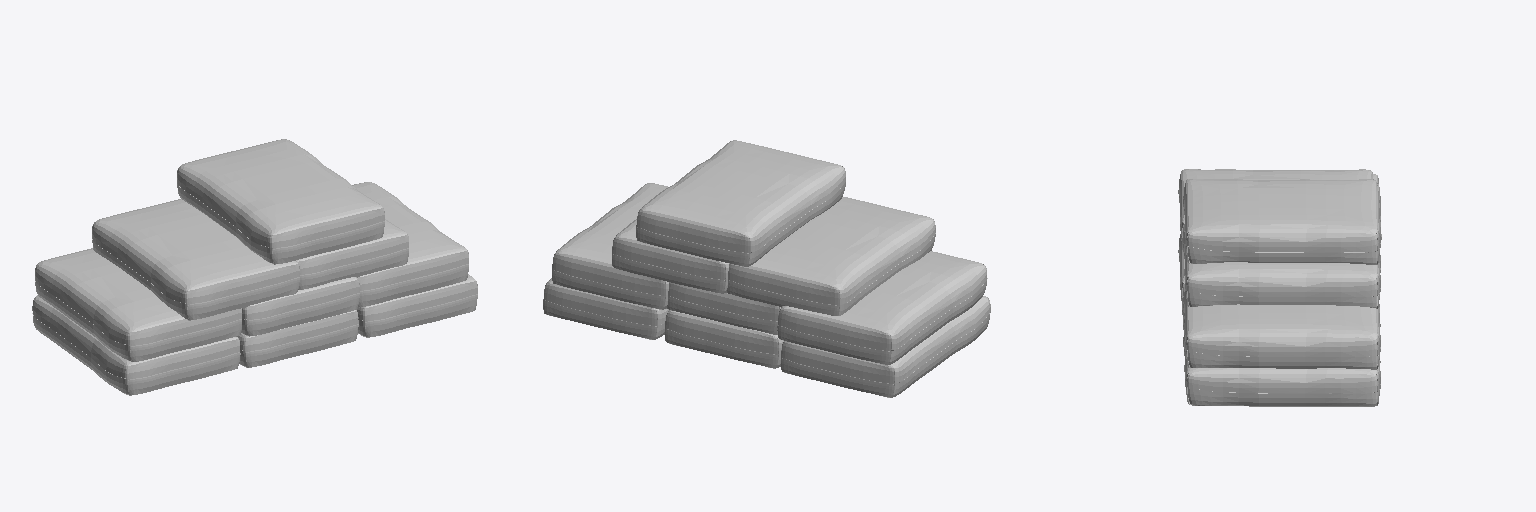
File: cement2.obj
The picture shows the model from 3 angles: view 1: azimuth 30°, elevation 25°; view 2: azimuth 150°, elevation 25°; view 3: azimuth 270°, elevation 25°; orthographic projection.
Visible parts, largest first — view 1: Cement_Bag.008, Cement_Bag.006, Cement_Bag.004, Cement_Bag.001, Cement_Bag.003, Cement_Bag.002, Cement_Bag.005, Cement_Bag.007, Cement_Bag; view 2: Cement_Bag.008, Cement_Bag.006, Cement_Bag.004, Cement_Bag.001, Cement_Bag.003, Cement_Bag.007, Cement_Bag, Cement_Bag.002, Cement_Bag.005; view 3: Cement_Bag.008, Cement_Bag.003, Cement_Bag.007, Cement_Bag.002, Cement_Bag.006.
Boxes of the visible parts, box(x1,y1,x2,y2) form: Cement_Bag.008: box(177, 139, 384, 264); Cement_Bag.006: box(92, 199, 299, 320); Cement_Bag.004: box(35, 248, 241, 361); Cement_Bag.001: box(32, 295, 240, 395); Cement_Bag.003: box(352, 182, 468, 307); Cement_Bag.002: box(357, 274, 477, 337); Cement_Bag.005: box(241, 277, 359, 336); Cement_Bag.007: box(296, 219, 408, 289); Cement_Bag: box(237, 310, 358, 367); Cement_Bag.008: box(636, 140, 845, 266); Cement_Bag.006: box(727, 197, 935, 315); Cement_Bag.004: box(777, 251, 987, 364); Cement_Bag.001: box(781, 296, 990, 397); Cement_Bag.003: box(552, 183, 668, 309); Cement_Bag.007: box(612, 219, 728, 293); Cement_Bag: box(665, 310, 783, 368); Cement_Bag.002: box(543, 278, 668, 339); Cement_Bag.005: box(667, 282, 780, 334); Cement_Bag.008: box(1183, 179, 1380, 264); Cement_Bag.003: box(1183, 291, 1380, 369); Cement_Bag.007: box(1183, 232, 1380, 308); Cement_Bag.002: box(1183, 328, 1380, 406); Cement_Bag.006: box(1178, 169, 1373, 251).
Size of the model in its own units: 1.38 by 0.4997 by 0.6787.